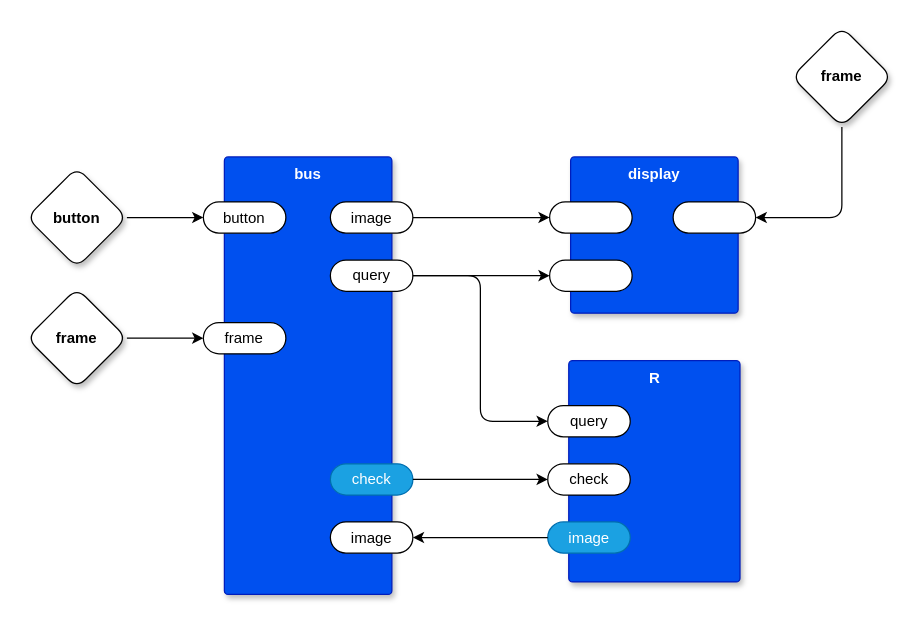
Image size: 921x625. Some labels were removed from this diagram. The shapes that lost their labels are listed below. From the top down, each one's centre as x and y in pixels, then its label:
At point 590,217: "draw".
At point 714,217: "present".
At point 590,275: "clear".
